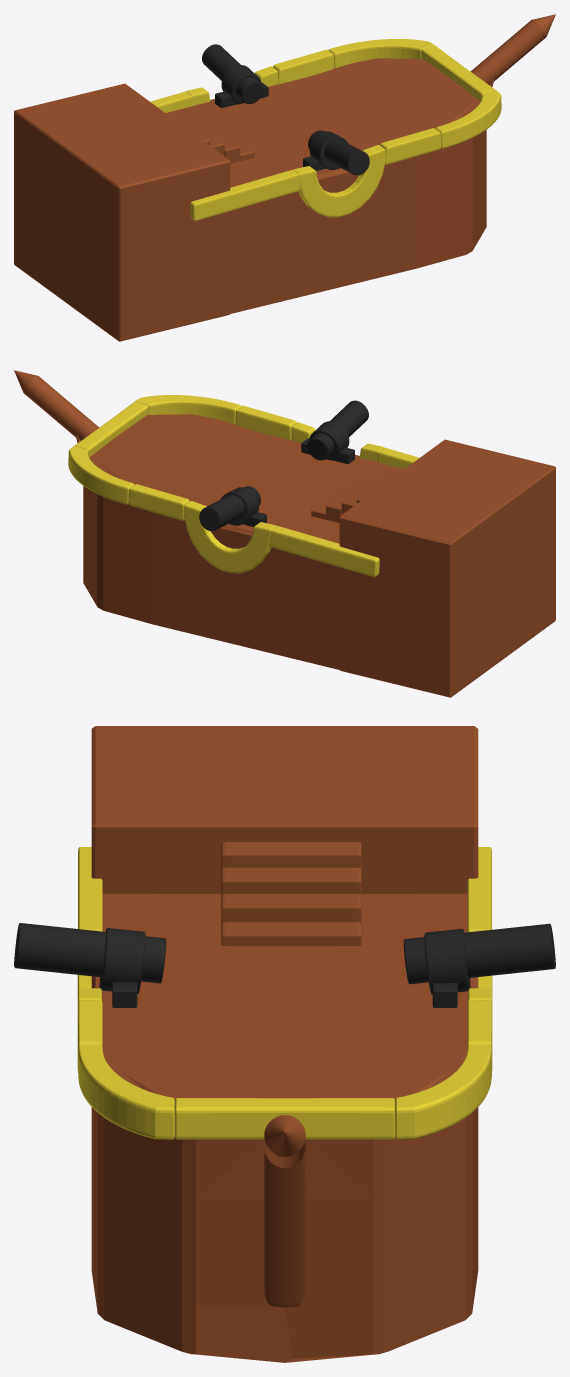
File: PirateshipUP1.fbx
The picture shows the model from 3 angles, top to bottom: view 1: azimuth 30°, elevation 25°; view 2: azimuth 150°, elevation 25°; view 3: azimuth 270°, elevation 25°; orthographic projection. The views are drawn at different scales.
Visible parts, largest first — view 1: Cube.001, Cube.002, Cube.006, Cube.007, Cylinder.006, Cube.003, Cube; view 2: Cube.001, Cube.002, Cube.006, Cube.003, Cylinder.006, Cube.007, Cube; view 3: Cube.001, Cube.002, Cube.006, Cube, Cube.003, Cube.007, Cylinder.006.
Boxes of the visible parts, x1,y1,x2,y2 form: Cube.001: (166, 58, 486, 326); Cube.002: (14, 83, 230, 341); Cube.006: (150, 39, 501, 220); Cube.007: (202, 44, 268, 107); Cylinder.006: (470, 14, 555, 86); Cube.003: (303, 130, 369, 175); Cube: (167, 113, 254, 163); Cube.001: (83, 414, 403, 682); Cube.002: (339, 439, 555, 697); Cube.006: (68, 395, 419, 577); Cube.003: (301, 400, 368, 464); Cylinder.006: (14, 370, 99, 442); Cube.007: (199, 486, 266, 531); Cube: (311, 471, 399, 522); Cube.001: (91, 893, 478, 1362); Cube.002: (91, 726, 478, 893); Cube.006: (77, 847, 492, 1139); Cube: (221, 842, 361, 946); Cube.003: (14, 923, 166, 1007); Cube.007: (403, 923, 555, 1007); Cylinder.006: (264, 1115, 305, 1307).
Size of the model in its own units: 1466 by 488 by 772.
